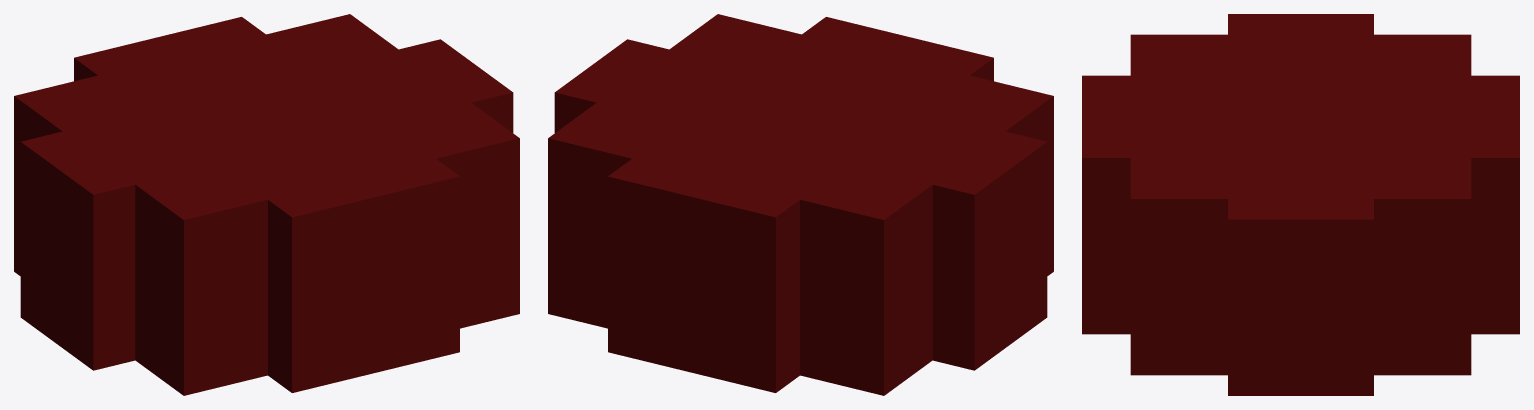
The model's file is objPrecious.obj.
The picture shows the model from 3 angles, left to right: view 1: azimuth 30°, elevation 25°; view 2: azimuth 150°, elevation 25°; view 3: azimuth 270°, elevation 25°; orthographic projection.
Bounding box in the file's own units: 1 × 0.4 × 0.9.
1 material, 1 textured.
